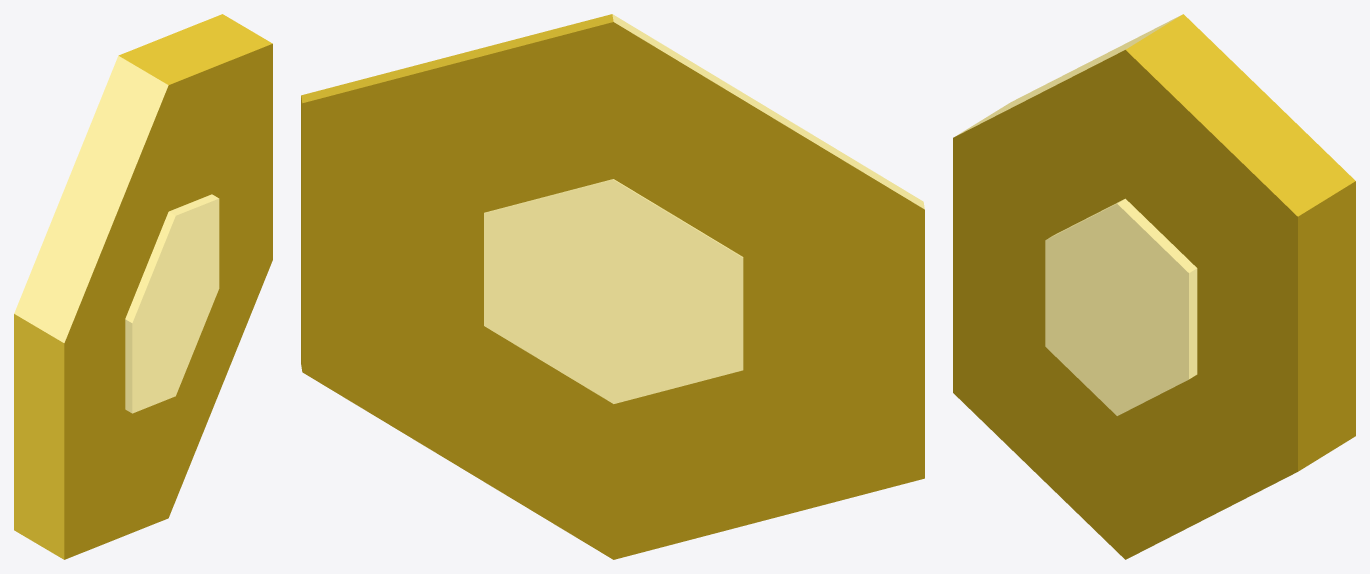
File: Gem_1.gltf
3 renders of one model, left to right at view 1: azimuth 30°, elevation 25°; view 2: azimuth 150°, elevation 25°; view 3: azimuth 270°, elevation 25°, orthographic. The views are drawn at different scales.
Visible parts, largest first — view 1: Gem_1_baked; view 2: Gem_1_baked; view 3: Gem_1_baked.
Boxes of the visible parts, x1,y1,x2,y2 form: Gem_1_baked: (14, 14, 272, 559); Gem_1_baked: (301, 14, 924, 559); Gem_1_baked: (953, 14, 1355, 559).
Size of the model in its own units: 0.4412 by 0.4998 by 0.3434.
